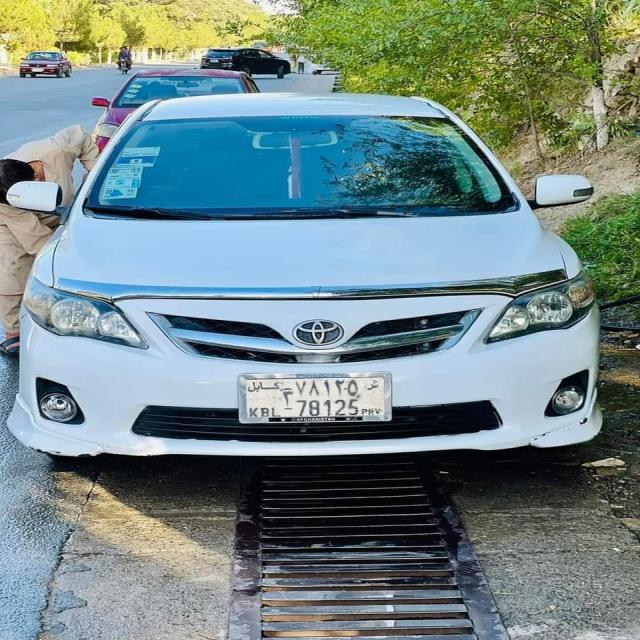Plate: (247, 379, 385, 417)
